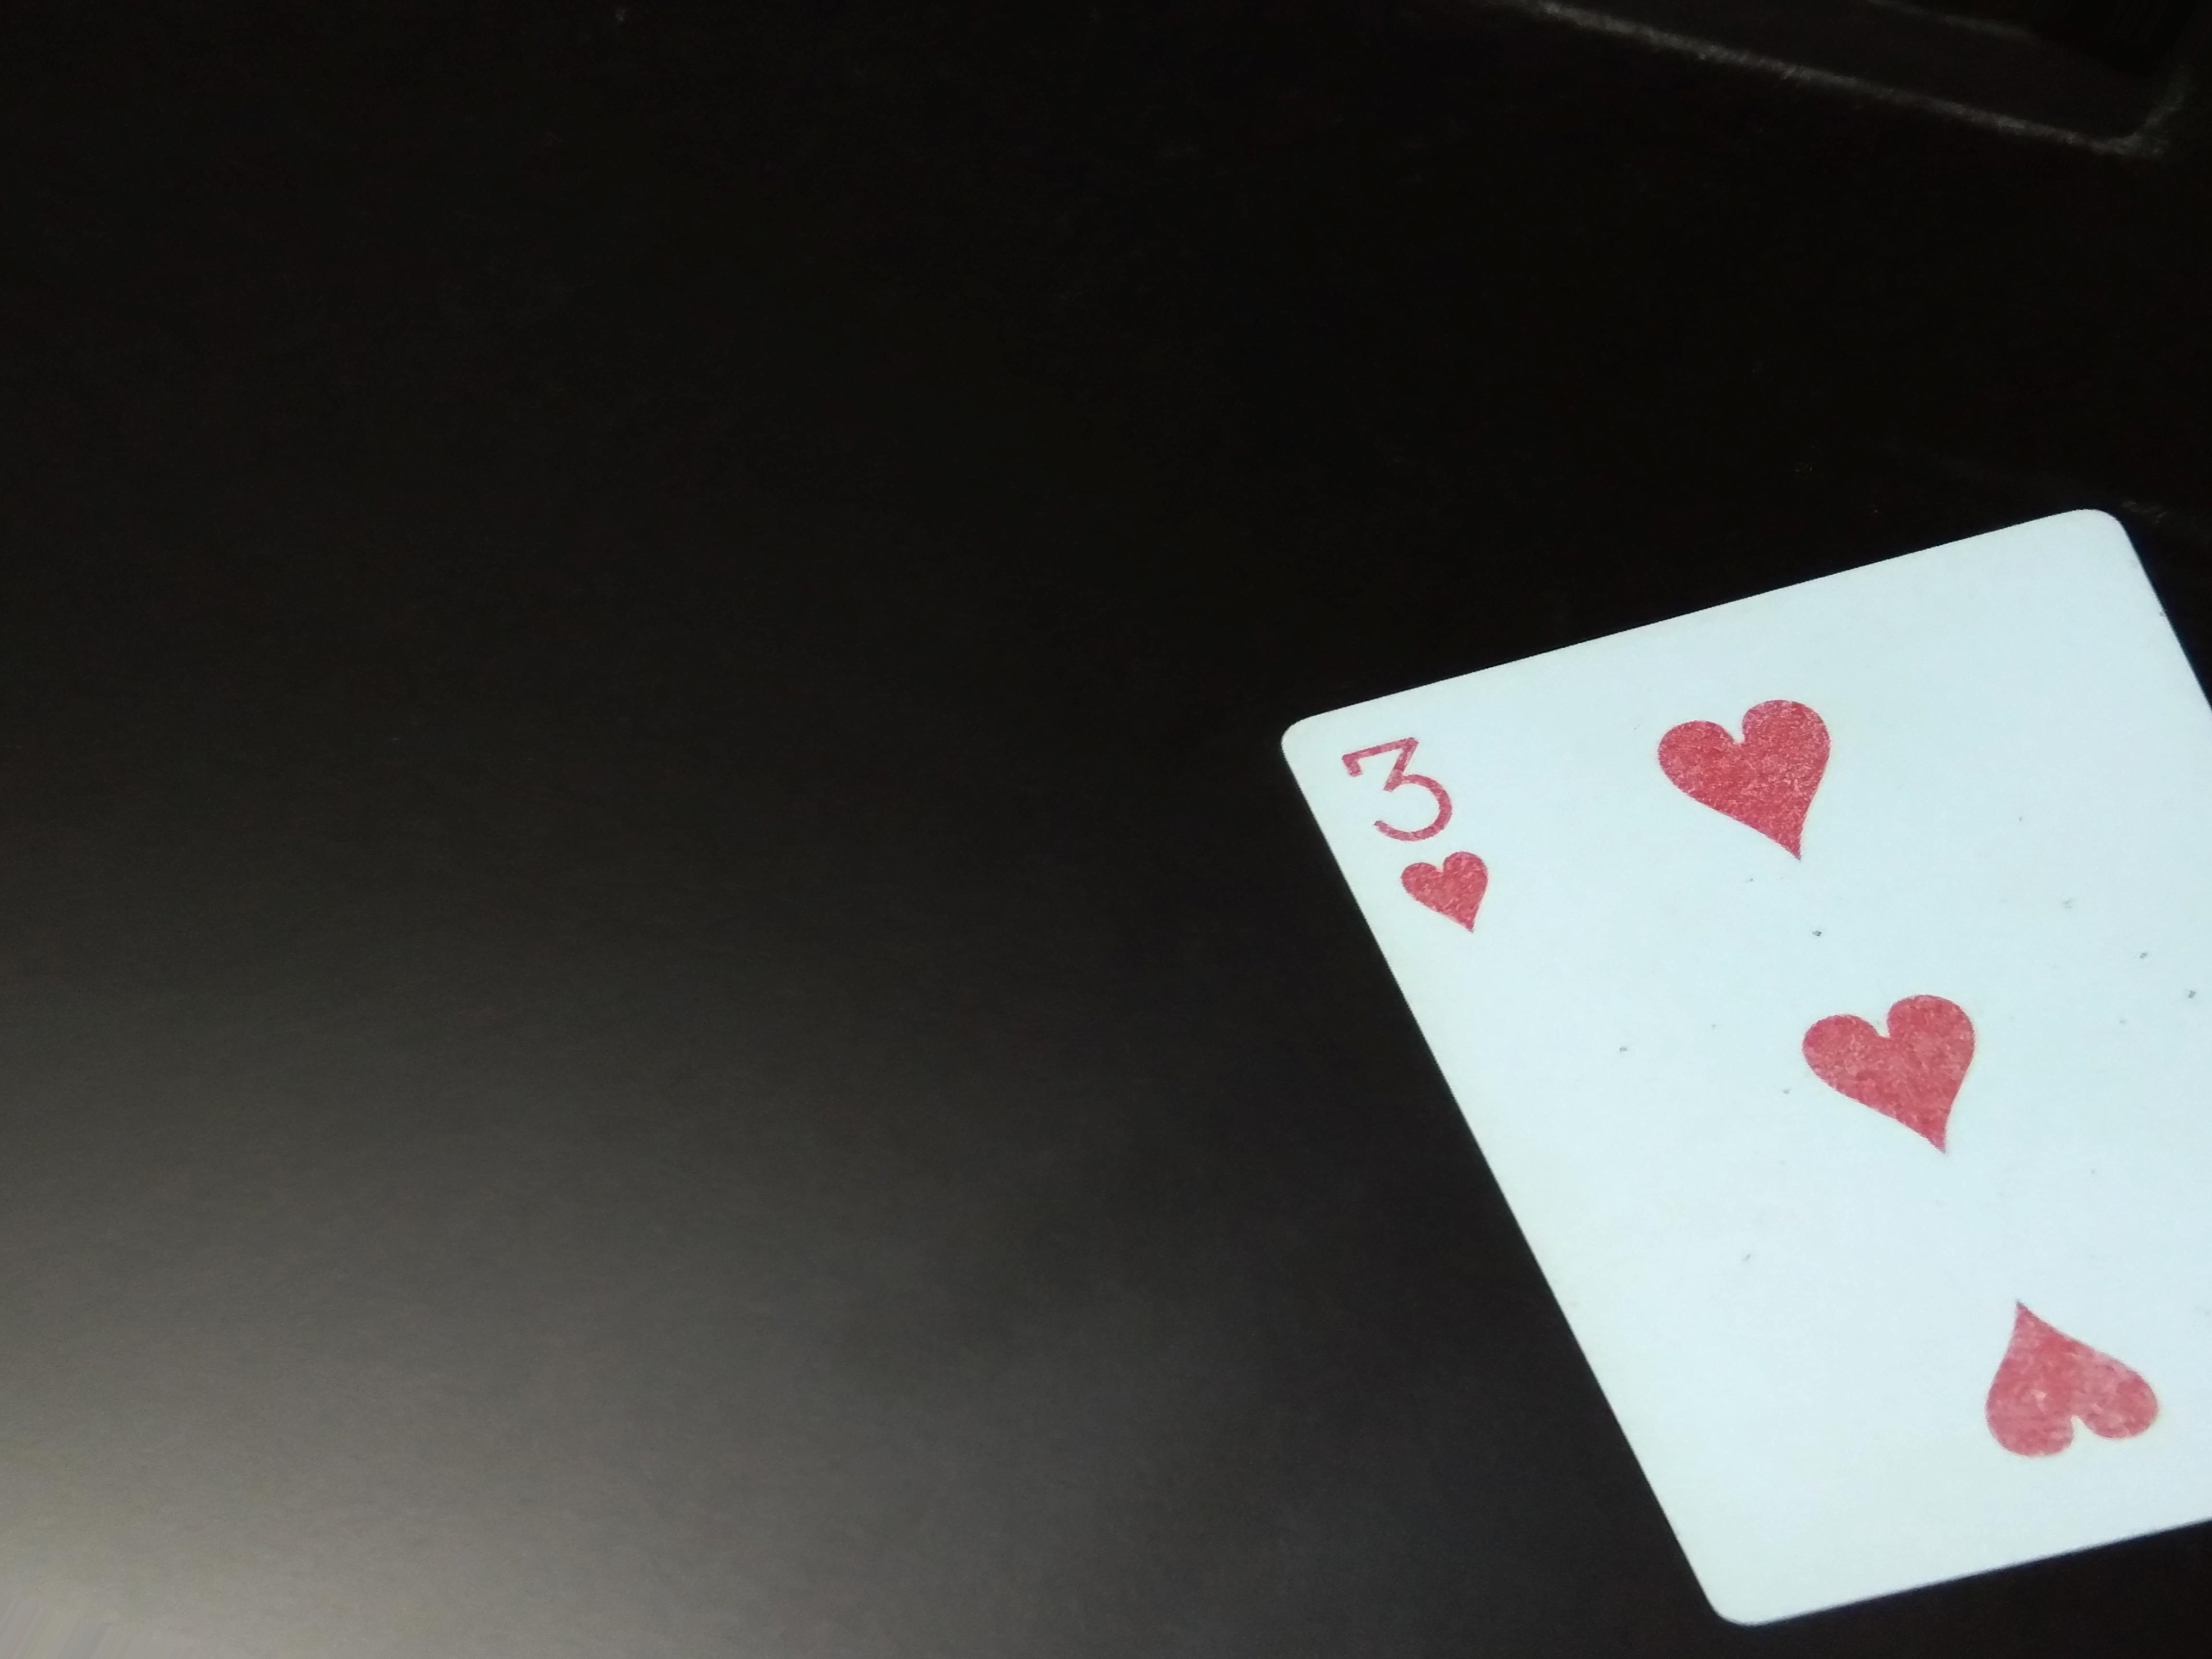3H: (1325, 723, 1526, 985)
